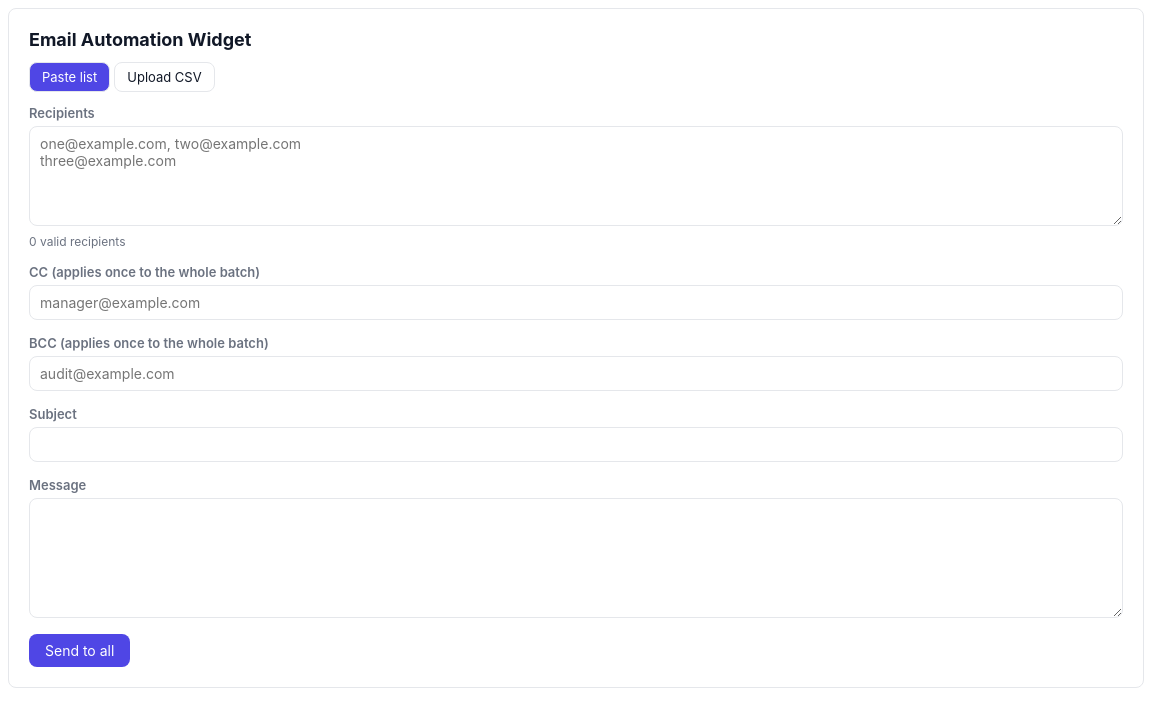
Test case: EmailAutomationWidget (bulk mode) › updates the live recipient count as the textarea is edited
Type "a@x.com, b@x.com" into the text box labelled "Recipients" at x=576, y=176, box top-left (29, 126), bottom-right (1123, 226)
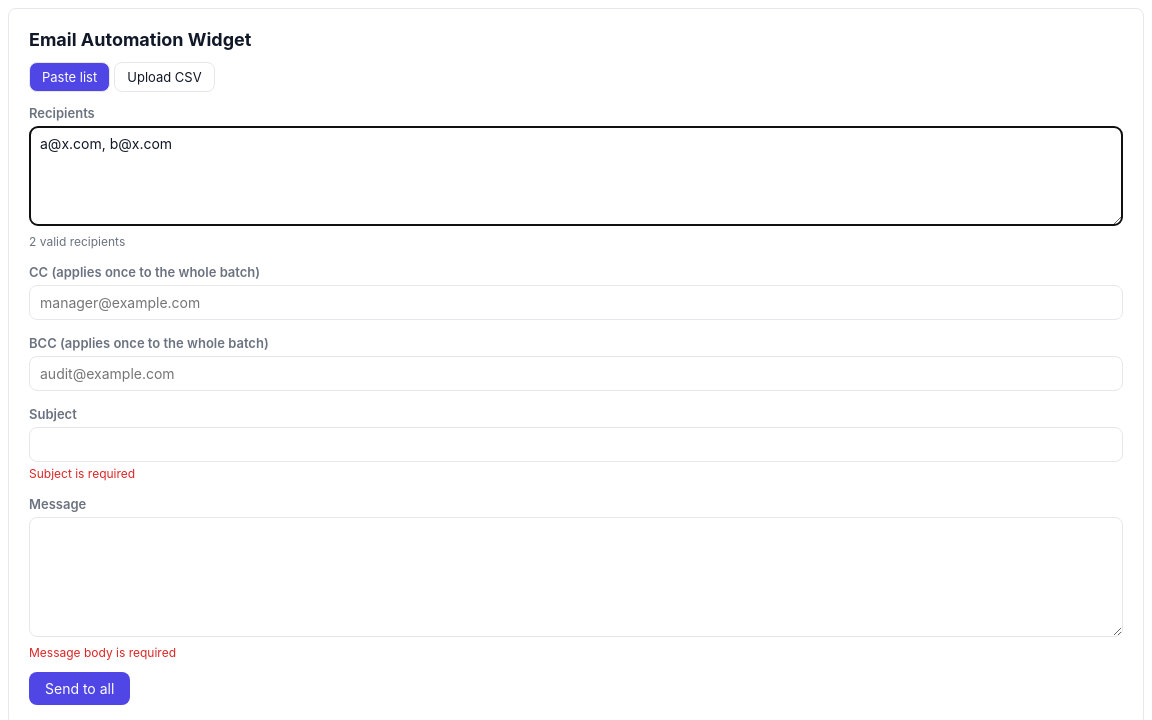
Result: the text "2 valid recipients" is shown at top-left (29, 234), bottom-right (125, 249)
